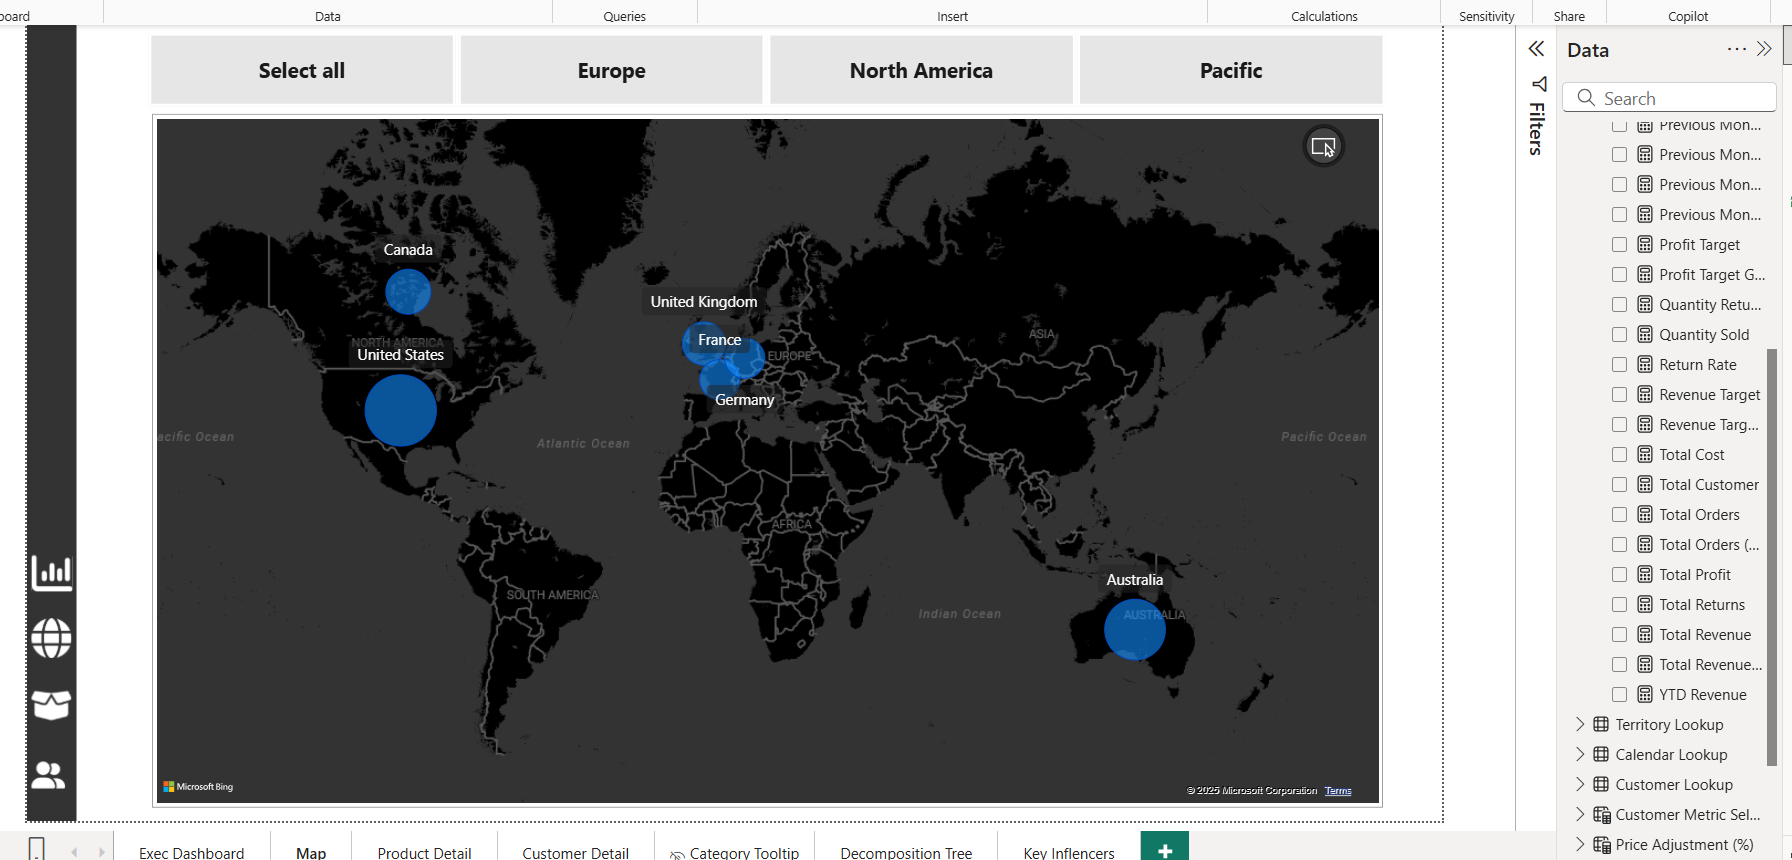

This screenshot's page, from the dashboard's own definition file:
{"tool":"powerbi","page":{"name":"Map","canvas":[1280,720],"ordinal":1},"visuals":[{"type":"shape","box":[0,0,45,720],"z":0},{"type":"actionButton","box":[0,472.6,45.2,46.4],"z":0,"group":"g1"},{"type":"map","fields":{"Category":[" Territory Lookup.Country"],"Size":["Measure Table.Total Orders"]},"box":[112.7,80.3,1114.6,628],"z":1000},{"type":"actionButton","box":[0,593,45.2,44.1],"z":1000,"group":"g1"},{"type":"slicer","fields":{"Values":[" Territory Lookup.Continent"]},"box":[83.9,0,1168.5,80.3],"z":2000},{"type":"actionButton","box":[0,532.1,56.3,44.3],"z":2000,"group":"g1"},{"type":"group","id":"g1","title":"Navigation Buttons","box":[0,472.6,56.5,225],"z":3000},{"type":"actionButton","box":[0,659.2,56.5,38.4],"z":3000,"group":"g1"}]}

Visuals, with their boxes on the page's 1280x720 design canvas (x1, y1, x2, y2). These are canvas units, not pixel positions in the 1792x860 screenshot, which may show the page scaled, cropped or inside an application window:
shape: locate(0, 0, 45, 720)
actionButton: locate(0, 473, 45, 519)
map -  Territory Lookup.Country x Measure Table.Total Orders: locate(113, 80, 1227, 708)
actionButton: locate(0, 593, 45, 637)
slicer -  Territory Lookup.Continent: locate(84, 0, 1252, 80)
actionButton: locate(0, 532, 56, 576)
"Navigation Buttons" group: locate(0, 473, 56, 698)
actionButton: locate(0, 659, 56, 698)
